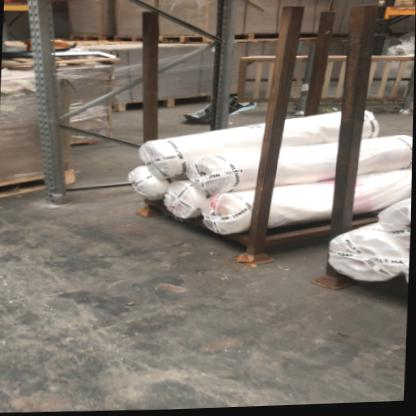vertical_damage: (37, 182, 82, 215)
